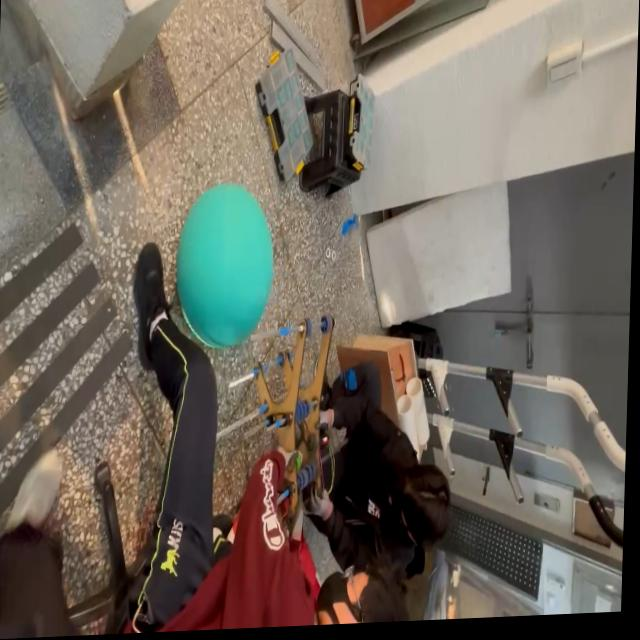ALGAE: (172, 177, 276, 352)
